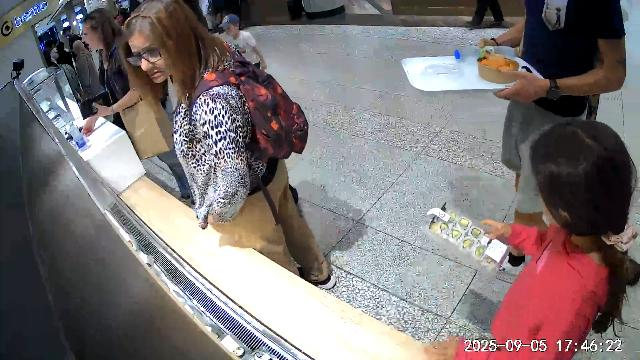sushi-box: (420, 200, 513, 280)
